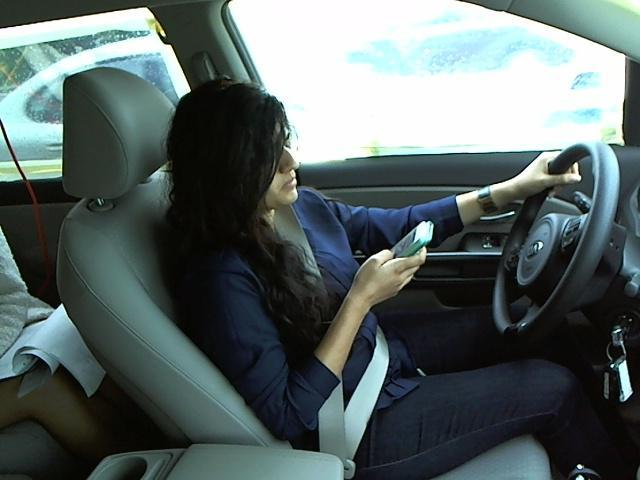PhoneUse: (384, 218, 441, 275)
